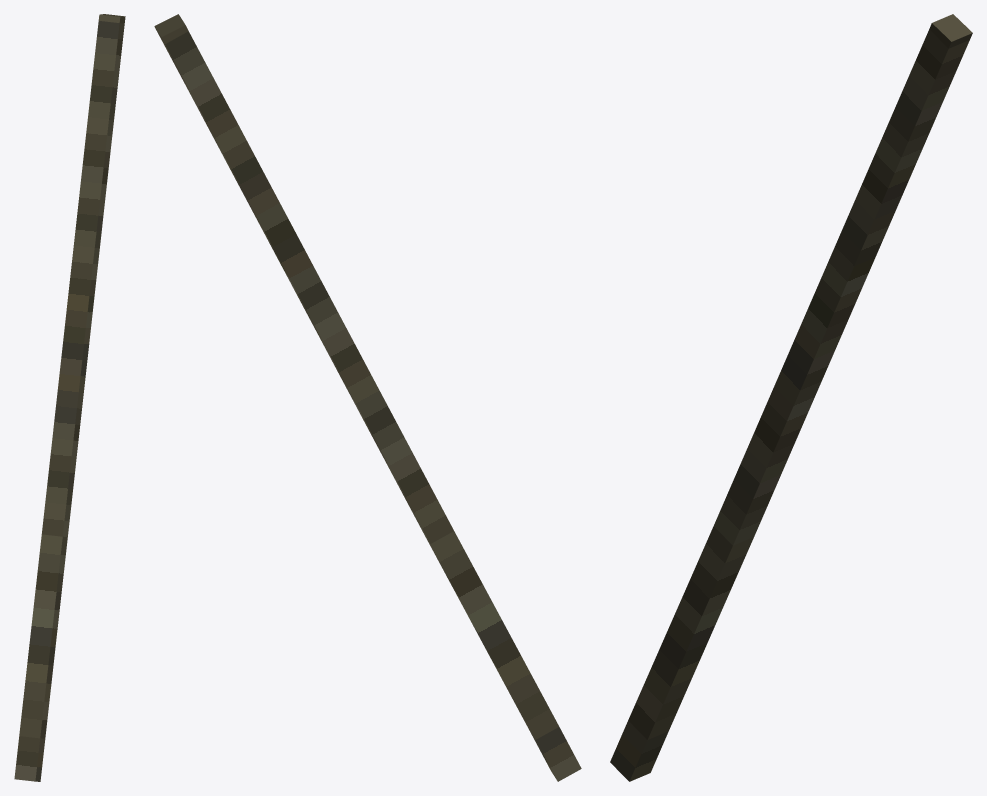
The model's file is rope_3tall_diag.obj.
3 views of the same model, side by side, from view 1: azimuth 30°, elevation 25°; view 2: azimuth 150°, elevation 25°; view 3: azimuth 270°, elevation 25° (orthographic). The views are drawn at different scales.
Parts seen in each view (by area): view 1: cube; view 2: cube; view 3: cube.
Part boxes in pixels (left/top/right/bottom): cube: left=14, top=14, right=125, bottom=781; cube: left=154, top=14, right=581, bottom=781; cube: left=610, top=14, right=972, bottom=781.
Size of the model in its own units: 1.13 by 3.04 by 1.13.
